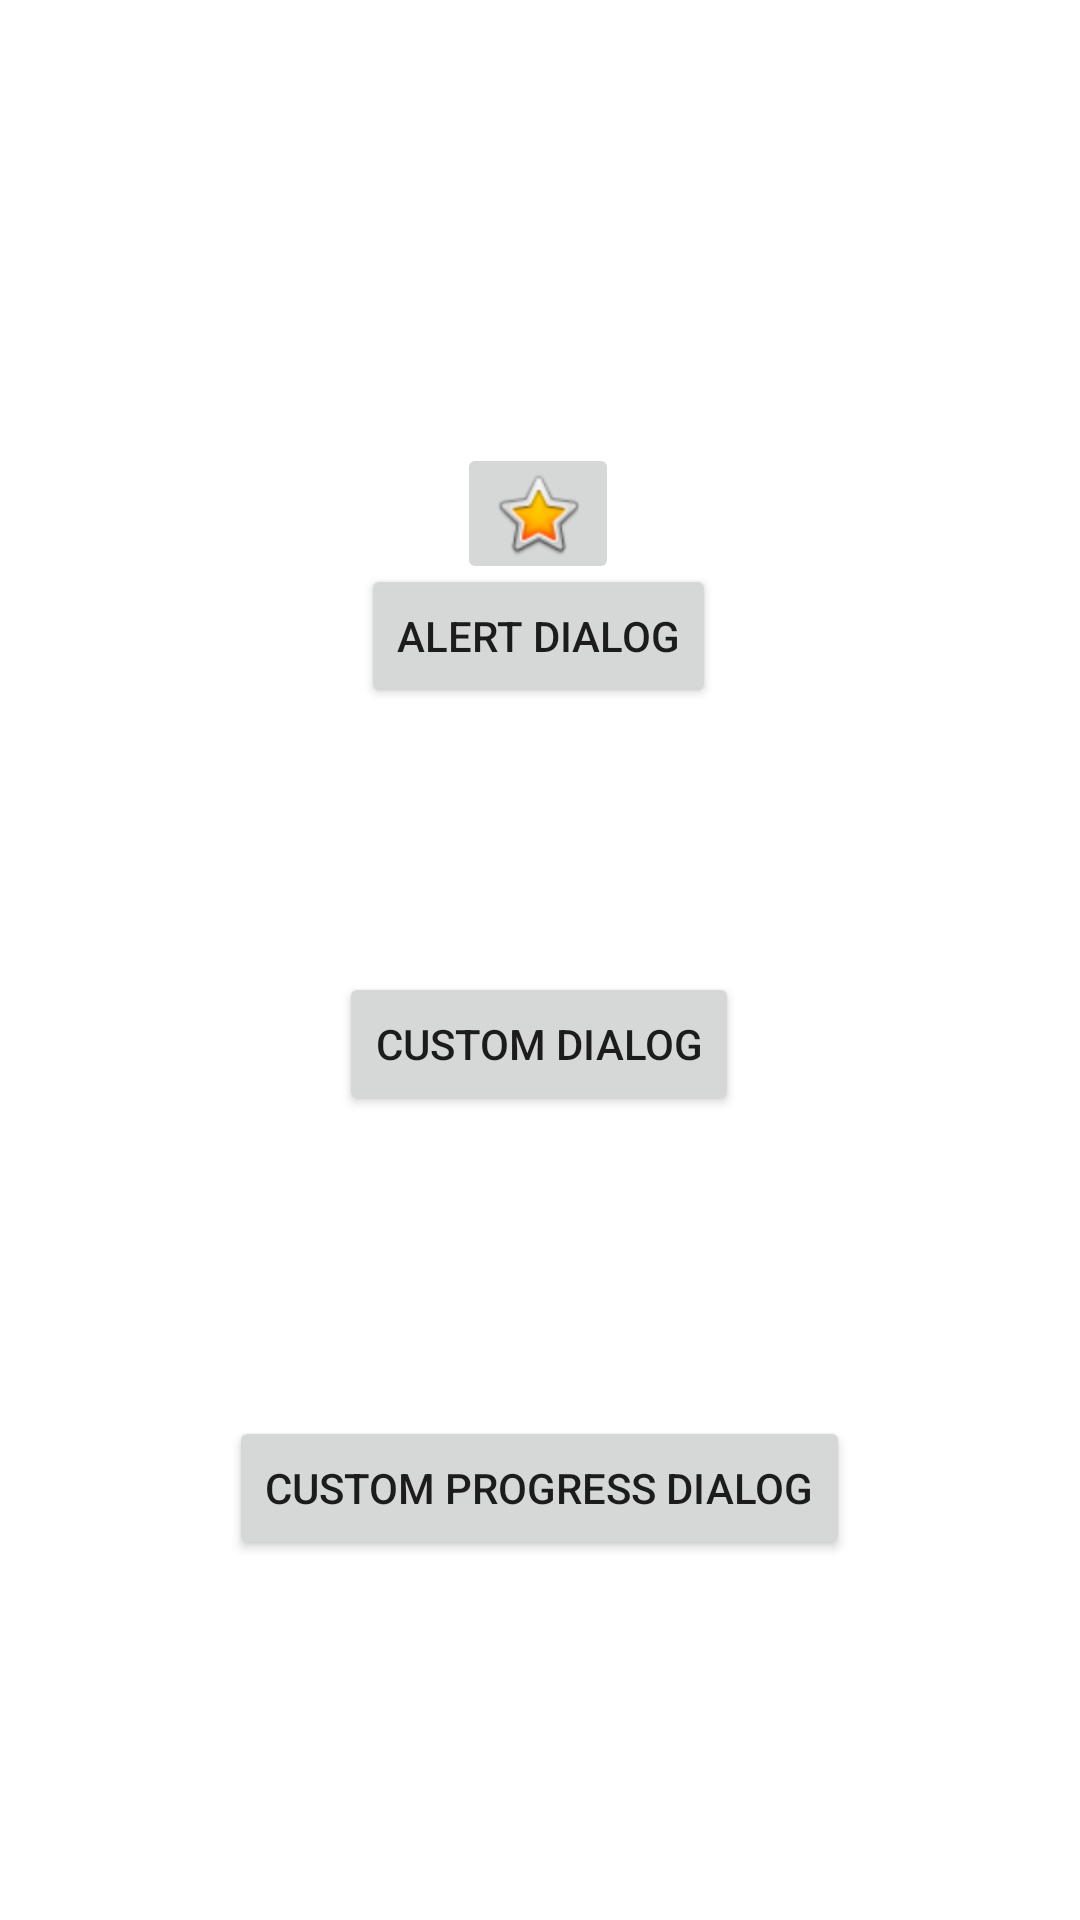

Named icons in this screenshot (1080px×1920px) and their centers, (x=x, y=y):
star on: (x=538, y=513)
